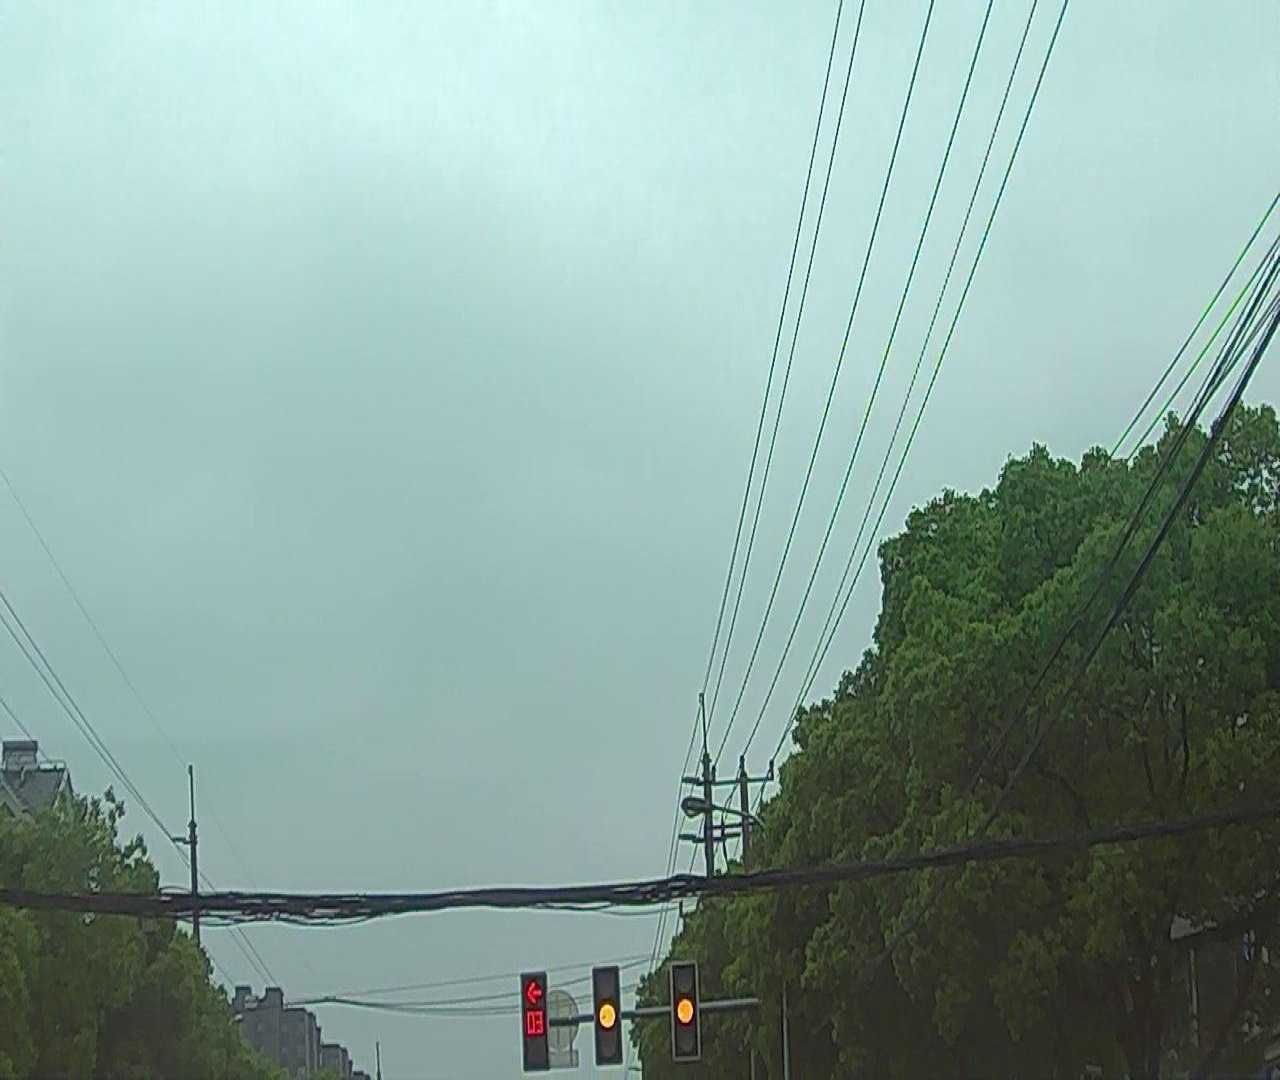red: (521, 969, 549, 1069)
yellow: (591, 966, 624, 1066), (671, 963, 701, 1059)
